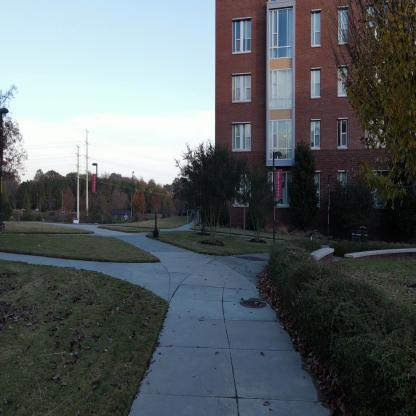Wolf Ridge: (212, 0, 415, 287)
